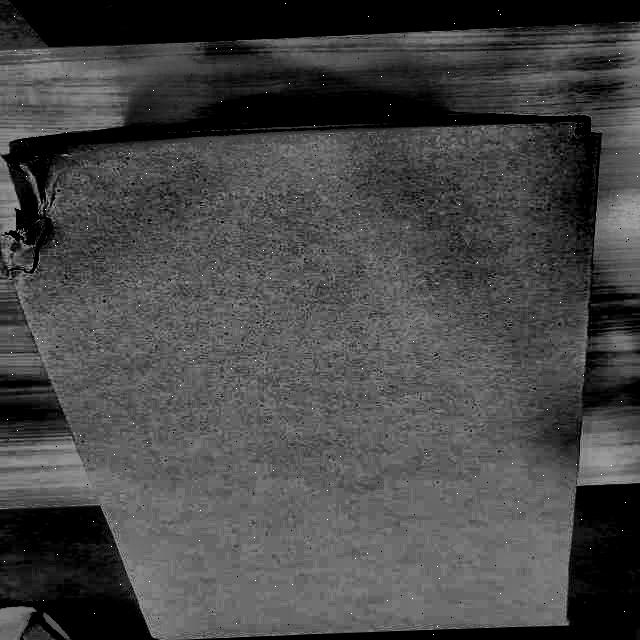box: (1, 111, 605, 640)
hole: (12, 205, 54, 237), (561, 114, 603, 142)
